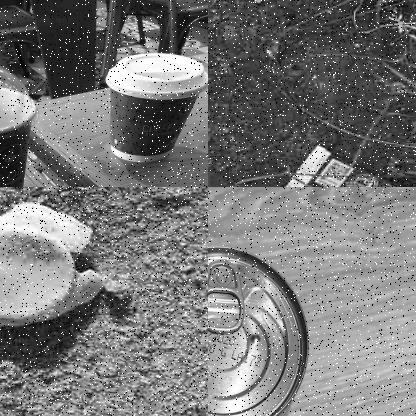metal: (208, 245, 311, 415)
plastic: (0, 197, 105, 327), (103, 49, 207, 166), (275, 141, 415, 186)
